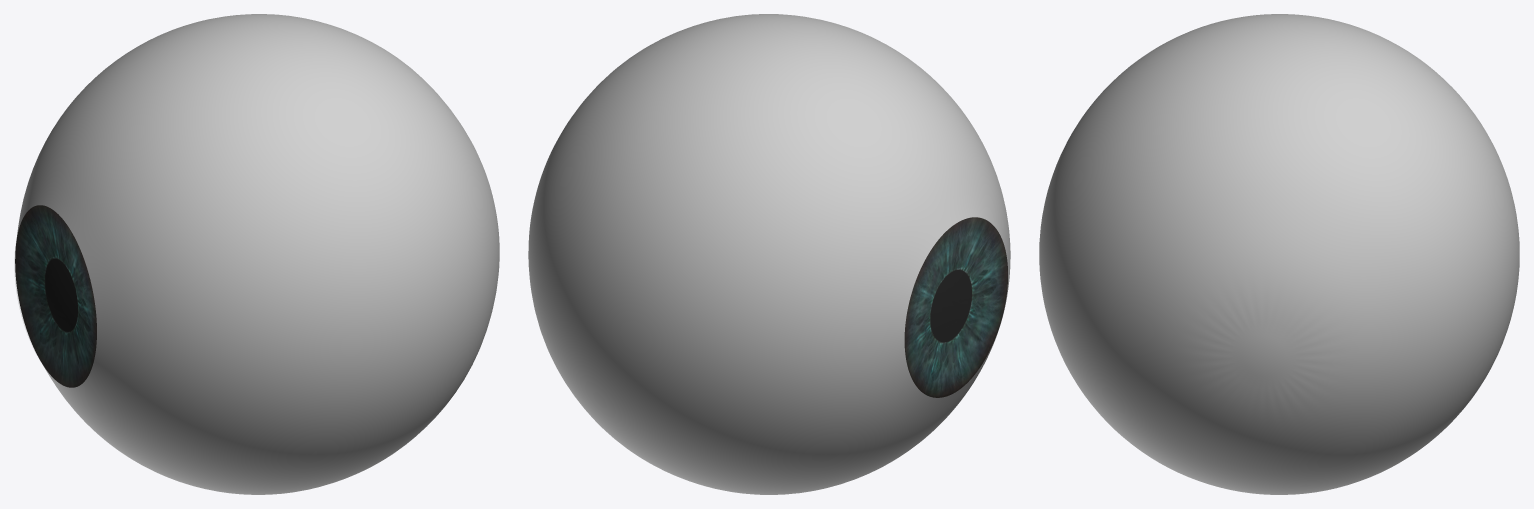
File: Eye.obj
3 renders of one model, left to right at view 1: azimuth 30°, elevation 25°; view 2: azimuth 150°, elevation 25°; view 3: azimuth 270°, elevation 25°, orthographic.
Parts seen in each view (by area): view 1: eyeball_1_eye_1.004, eyeball_1.003_eye_1.006, eyeball_1.002_eye_1.006, eyeball_1.001_eye_1.006; view 2: eyeball_1_eye_1.004, eyeball_1.003_eye_1.006, eyeball_1.002_eye_1.006, eyeball_1.001_eye_1.006; view 3: eyeball_1_eye_1.004.
Part boxes in pixels (bbox=[...]): eyeball_1_eye_1.004: bbox=[16, 14, 499, 494]; eyeball_1.003_eye_1.006: bbox=[14, 206, 96, 386]; eyeball_1.002_eye_1.006: bbox=[15, 205, 96, 387]; eyeball_1.001_eye_1.006: bbox=[45, 259, 77, 331]; eyeball_1_eye_1.004: bbox=[528, 14, 1010, 494]; eyeball_1.003_eye_1.006: bbox=[905, 218, 1007, 397]; eyeball_1.002_eye_1.006: bbox=[904, 217, 1007, 397]; eyeball_1.001_eye_1.006: bbox=[930, 270, 971, 342]; eyeball_1_eye_1.004: bbox=[1039, 14, 1519, 494].
Size of the model in its own units: 0.2063 by 0.2034 by 0.2034.
